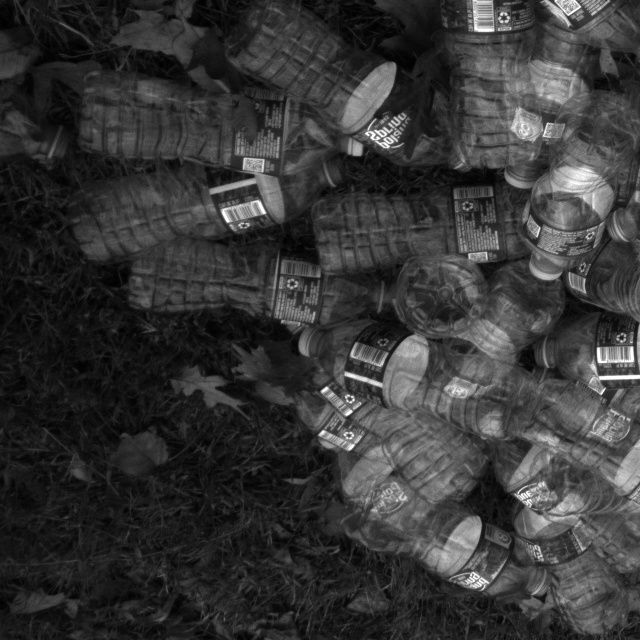bottle: (230, 0, 465, 178), (283, 335, 487, 508), (81, 65, 372, 180), (72, 146, 345, 266), (323, 477, 550, 614), (308, 174, 580, 287), (121, 227, 394, 338), (293, 327, 529, 449), (506, 86, 640, 294), (509, 472, 636, 638), (512, 373, 640, 528), (432, 0, 538, 173), (497, 456, 640, 573), (452, 0, 640, 80), (528, 303, 640, 396), (584, 0, 640, 87)
